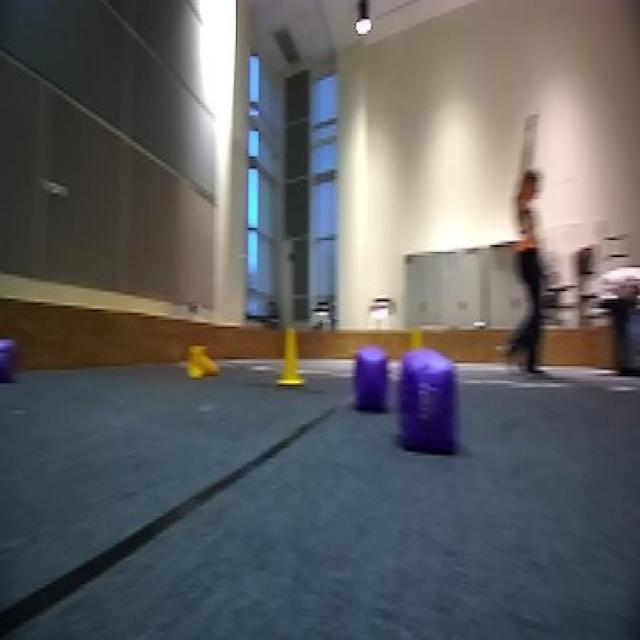frc_cone: (274, 327, 307, 386), (185, 340, 222, 380)
frc_cube: (403, 354, 457, 448), (355, 352, 390, 414), (0, 330, 18, 388)
